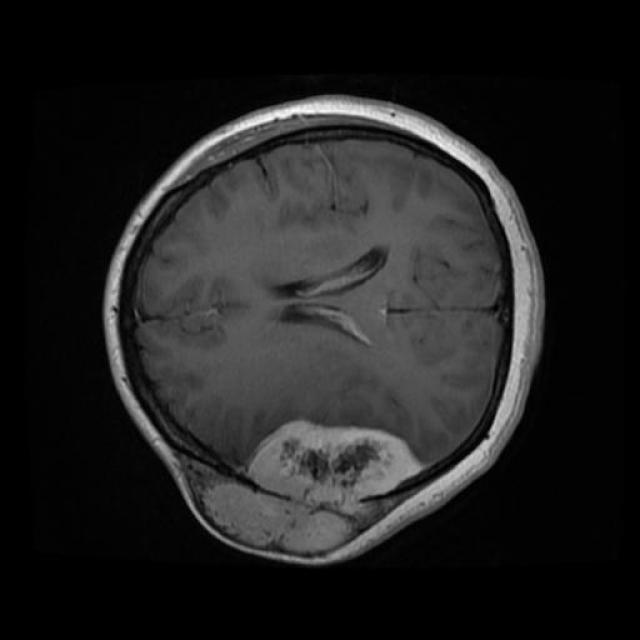Meningioma: (182, 421, 421, 556)
